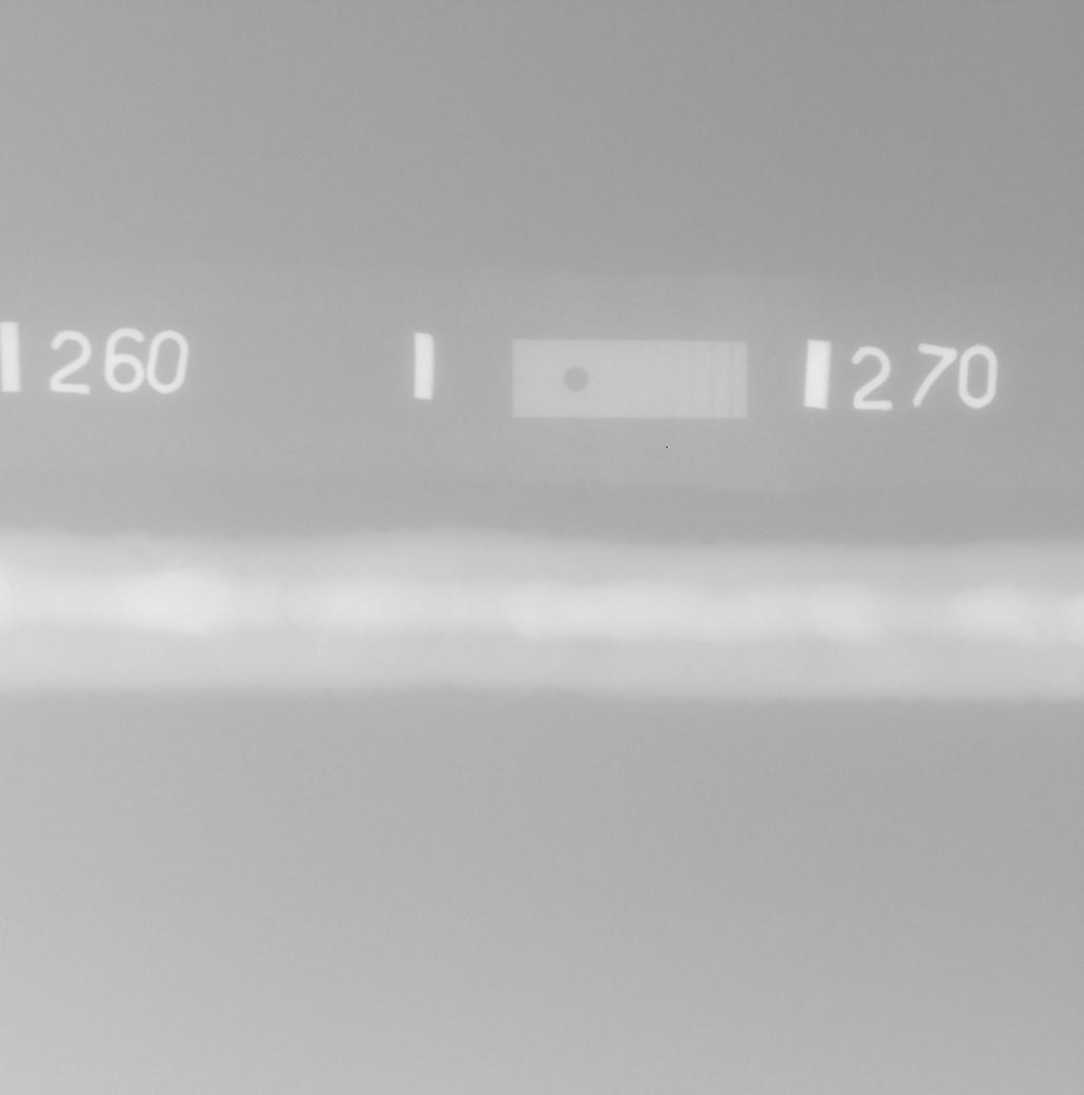Reference Standard 1: (513, 340, 748, 419)
